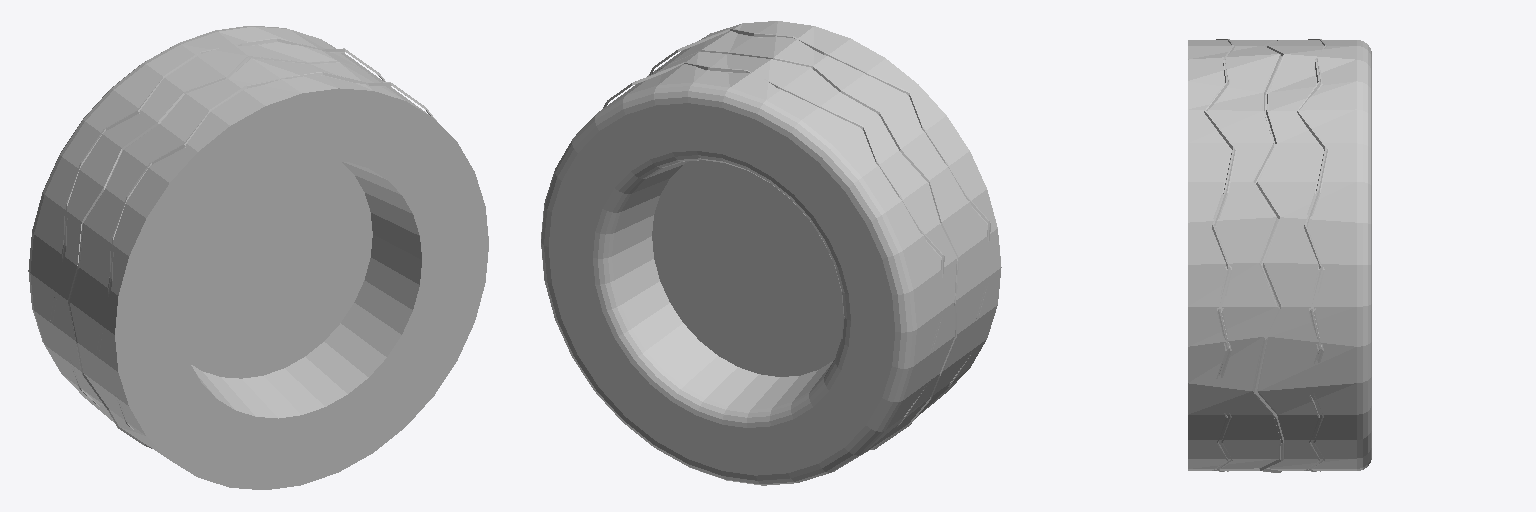
File: Low poly tyre.obj
3 views of the same model, side by side, from view 1: azimuth 30°, elevation 25°; view 2: azimuth 150°, elevation 25°; view 3: azimuth 270°, elevation 25° (orthographic).
Parts seen in each view (by area): view 1: Cylinder; view 2: Cylinder; view 3: Cylinder.
Part boxes in pixels (left/top/right/bottom): Cylinder: left=28, top=26, right=488, bottom=489; Cylinder: left=541, top=21, right=1001, bottom=485; Cylinder: left=1188, top=39, right=1371, bottom=472.
Size of the model in its own units: 2 by 2.04 by 0.8549.